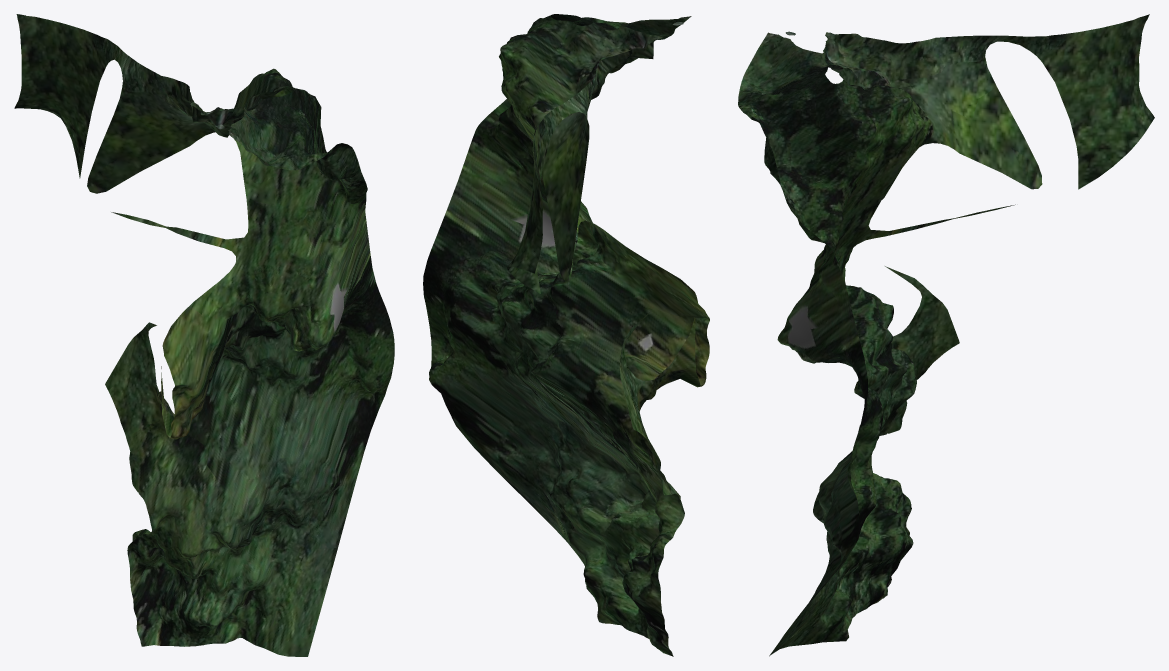
Rendered from Tile_+024_+016.fbx.
3 views of the same model, side by side, from view 1: azimuth 30°, elevation 25°; view 2: azimuth 150°, elevation 25°; view 3: azimuth 270°, elevation 25° (orthographic). The views are drawn at different scales.
Parts seen in each view (by area): view 1: DefaultName; view 2: DefaultName; view 3: DefaultName.
Part boxes in pixels (x1,y1,x2,y2): DefaultName: (14, 14, 394, 656); DefaultName: (423, 14, 709, 656); DefaultName: (738, 14, 1154, 656).
Bounding box in the file's own units: 10.47 × 22.54 × 14.61.
